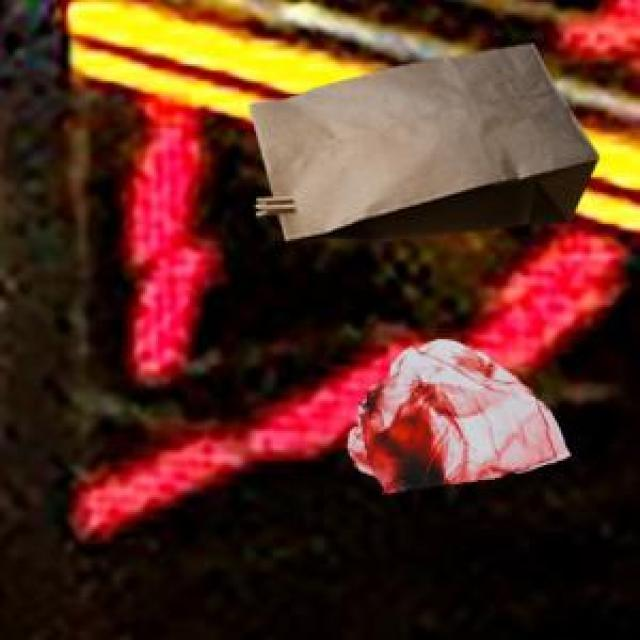paper: (246, 41, 595, 239)
